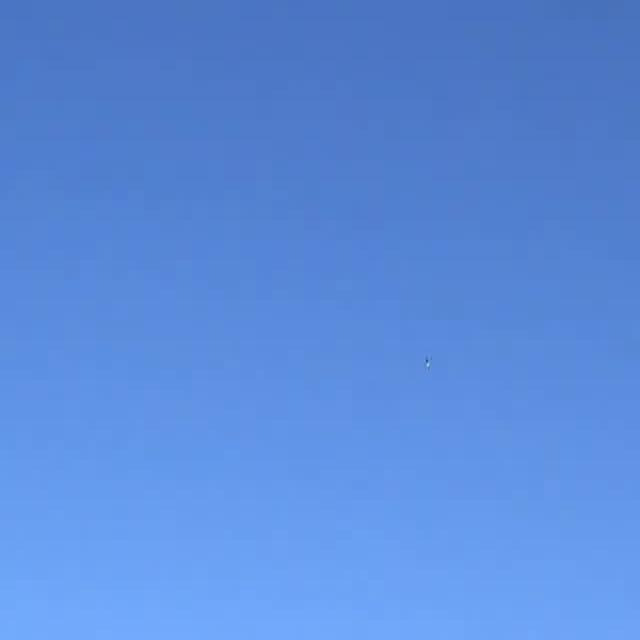bird: (423, 352, 437, 369)
